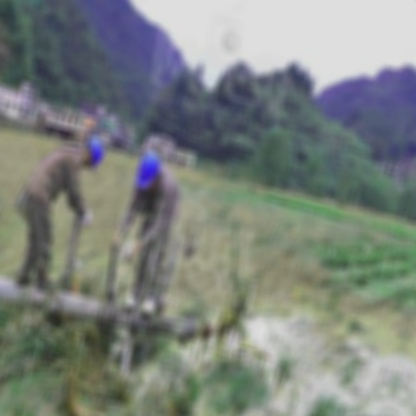blue: (129, 143, 165, 199), (79, 128, 111, 180)
